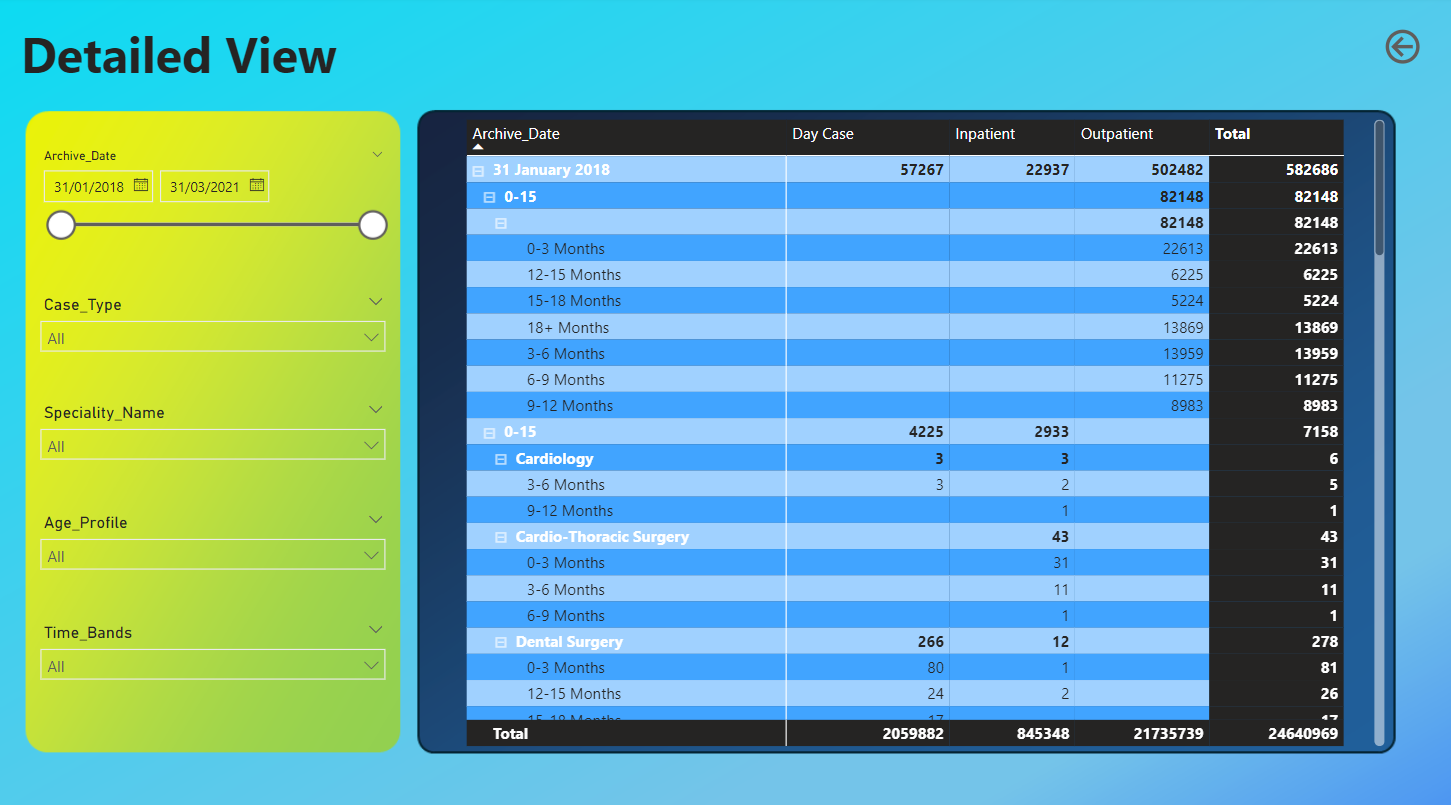

Layout of this report page (visuals, bound fields, positions):
{"tool":"powerbi","page":{"name":"Detail","canvas":[1280,720],"ordinal":1},"visuals":[{"type":"slicer","fields":{"Values":["All_Data.Archive_Date"]},"box":[28.3,128.1,323.3,98.9],"z":0},{"type":"slicer","fields":{"Values":["All_Data.Case_Type"]},"box":[28.3,256.2,323.3,95.4],"z":1000},{"type":"slicer","fields":{"Values":["All_Data.Speciality_Name"]},"box":[28.3,351.6,323.3,96.3],"z":2000},{"type":"textbox","box":[16,16,304,96],"z":3000},{"type":"slicer","fields":{"Values":["All_Data.Age_Profile"]},"box":[28.3,447.9,323.3,96.3],"z":4000},{"type":"slicer","fields":{"Values":["All_Data.Time_Bands"]},"box":[28.3,544.2,323.3,96.3],"z":5000},{"type":"pivotTable","fields":{"Rows":["All_Data.Archive_Date","All_Data.Age_Profile","All_Data.Specialty_Name","All_Data.Time_Bands"],"Columns":["All_Data.Case_Type"],"Values":["Sum(All_Data.Total)"]},"box":[407.2,102.5,816.2,560.1],"z":6000},{"type":"actionButton","box":[1214.6,23.9,39.8,39.8],"z":7001}]}

Visuals, with their boxes in screenshot pixels (x1, y1, x2, y2), scaled from the page's 1280x720 canvas onto the 1451x805 screenshot:
slicer - All_Data.Archive_Date: <bbox>32, 143, 399, 254</bbox>
slicer - All_Data.Case_Type: <bbox>32, 286, 399, 393</bbox>
slicer - All_Data.Speciality_Name: <bbox>32, 393, 399, 501</bbox>
textbox: <bbox>18, 18, 363, 125</bbox>
slicer - All_Data.Age_Profile: <bbox>32, 501, 399, 608</bbox>
slicer - All_Data.Time_Bands: <bbox>32, 608, 399, 716</bbox>
pivotTable - All_Data.Archive_Date x All_Data.Age_Profile: <bbox>462, 115, 1387, 741</bbox>
actionButton: <bbox>1377, 27, 1422, 71</bbox>
